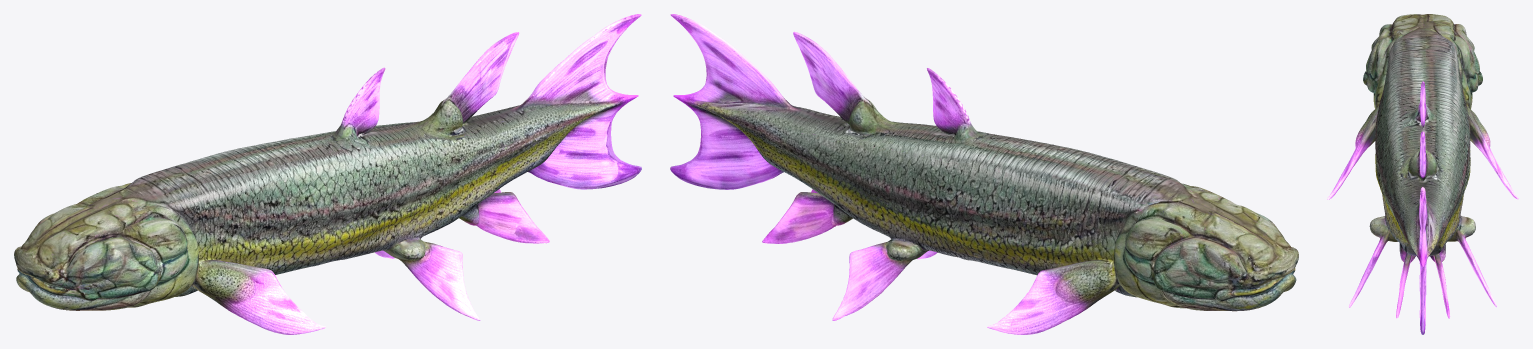
The model's file is lungfish.fbx.
3 views of the same model, side by side, from view 1: azimuth 30°, elevation 25°; view 2: azimuth 150°, elevation 25°; view 3: azimuth 270°, elevation 25° (orthographic). The views are drawn at different scales.
Visible parts, largest first — view 1: world; view 2: world; view 3: world.
Part boxes in pixels (x1,y1,x2,y2): world: (14,14,641,334); world: (670,14,1298,334); world: (1327,14,1518,334).
Bounding box in the file's own units: 199 × 72.97 × 61.47.
Materials: 1 (1 with a texture image).
